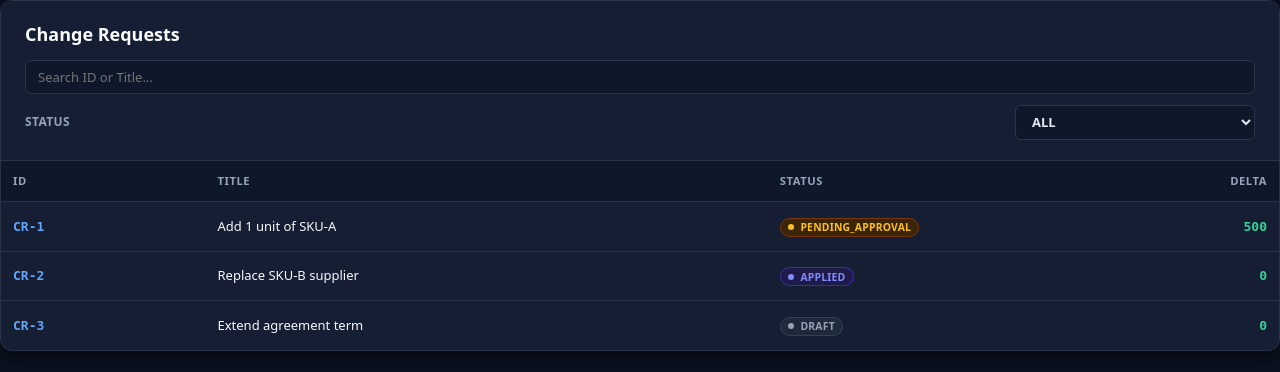
Test: CrListComponent › renders filter-empty state when no change requests match the filter
Select "REJECTED" in the dropdown with class "cr-list__filter" at (1135, 122), box top-left (1015, 105), bottom-right (1255, 140)
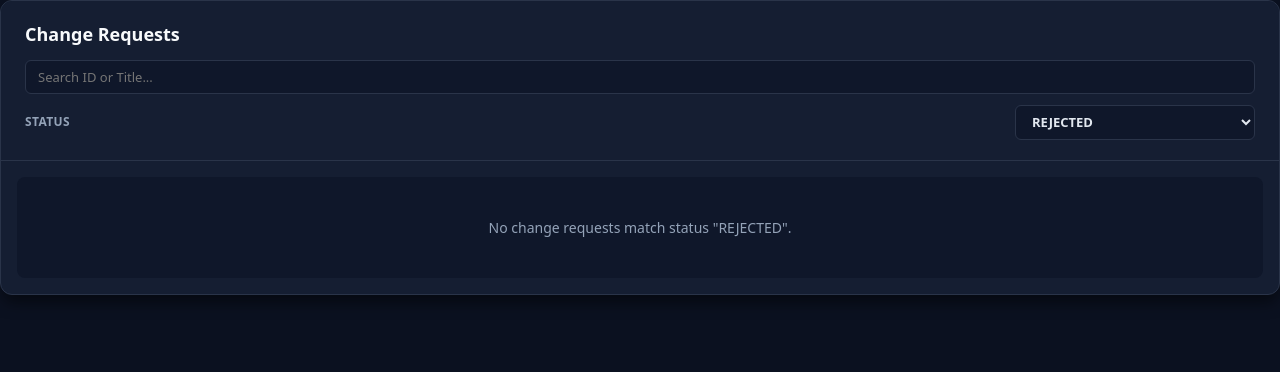
Expected: the table with class "cr-list__table" is gone
Expected: the text "No change requests match status \"REJECTED\"." is shown, top-left (17, 176), bottom-right (1263, 278)
Expected: the text with class "cr-list__filter-empty" shows "REJECTED", top-left (489, 218), bottom-right (792, 236)
